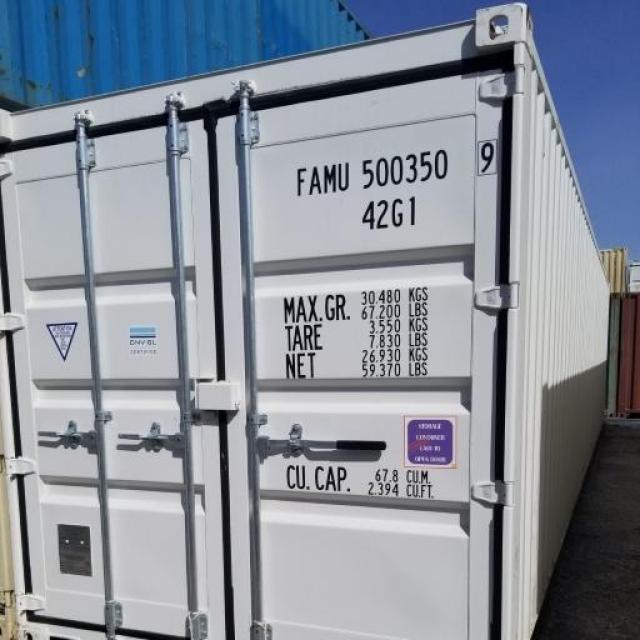ISO: (362, 199, 420, 229)
container_number: (297, 154, 492, 187)
